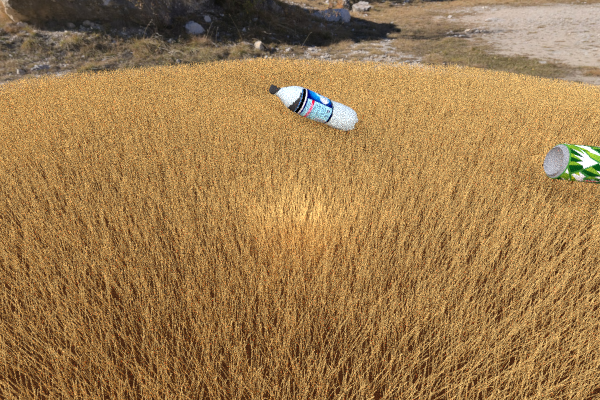Plastic Bottle: (268, 84, 358, 131), (543, 143, 600, 185)
